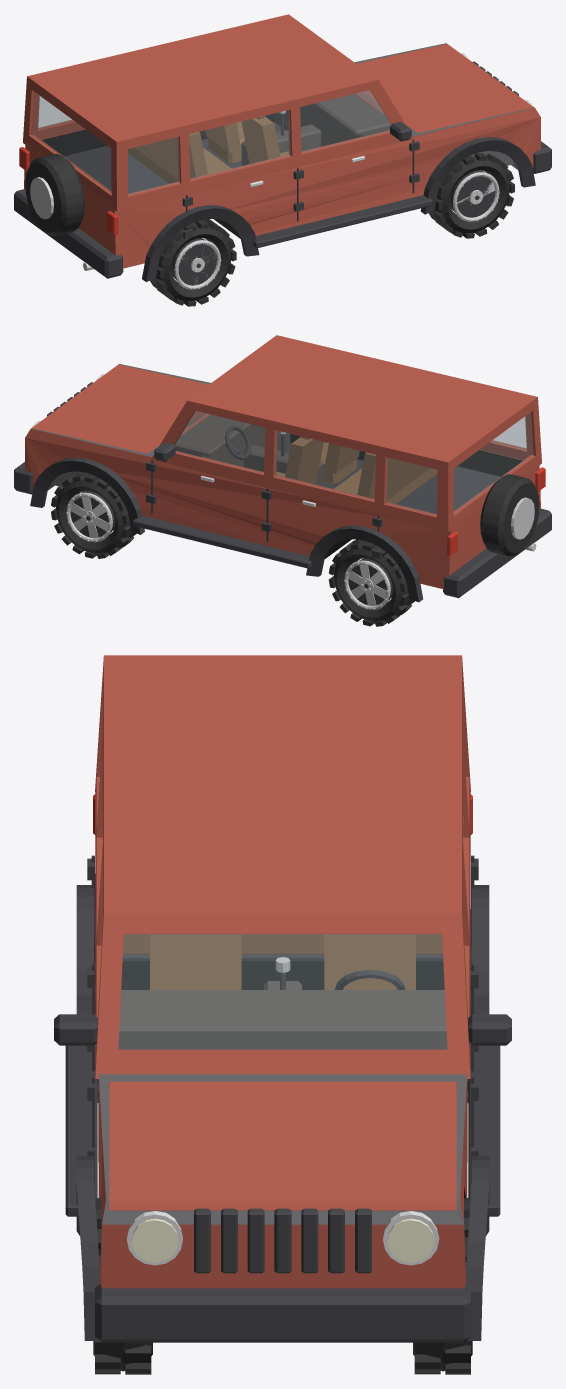
Rendered from ranger.glb.
3 views of the same model, one above another, from view 1: azimuth 30°, elevation 25°; view 2: azimuth 150°, elevation 25°; view 3: azimuth 270°, elevation 25° (orthographic). The views are drawn at different scales.
Visible parts, largest first — view 1: Body.008, Dark.008, Glass.008, Tire.008, Hood.008, Seat.008, Dash.008, Rim.008, Well.008, Bay.008, Tail.008, Chrome.008; view 2: Body.008, Dark.008, Glass.008, Tire.008, Hood.008, Seat.008, Dash.008, Rim.008, Well.008, Bay.008, Chrome.008, Tail.008; view 3: Body.008, Dark.008, Hood.008, Glass.008, Dash.008, Seat.008, Bay.008, Tire.008, Well.008, Headlight.008, Chrome.008.
Part boxes in pixels (left/top/right/bottom): Body.008: left=23, top=14, right=540, bottom=268; Dark.008: left=14, top=61, right=551, bottom=285; Glass.008: left=31, top=90, right=390, bottom=195; Tire.008: left=25, top=153, right=514, bottom=306; Hood.008: left=356, top=44, right=533, bottom=132; Seat.008: left=128, top=116, right=288, bottom=183; Dash.008: left=241, top=93, right=390, bottom=165; Rim.008: left=30, top=172, right=499, bottom=289; Well.008: left=42, top=113, right=274, bottom=238; Bay.008: left=354, top=43, right=534, bottom=171; Tail.008: left=19, top=147, right=118, bottom=235; Chrome.008: left=83, top=53, right=533, bottom=289; Body.008: left=25, top=335, right=541, bottom=589; Dark.008: left=14, top=382, right=551, bottom=604; Glass.008: left=174, top=411, right=533, bottom=515; Tire.008: left=51, top=473, right=539, bottom=626; Hood.008: left=32, top=364, right=208, bottom=453; Seat.008: left=276, top=436, right=437, bottom=504; Dash.008: left=174, top=414, right=323, bottom=486; Rim.008: left=66, top=492, right=534, bottom=609; Well.008: left=53, top=434, right=522, bottom=558; Bay.008: left=31, top=364, right=210, bottom=491; Chrome.008: left=33, top=374, right=536, bottom=609; Tail.008: left=447, top=467, right=545, bottom=555; Body.008: left=95, top=655, right=470, bottom=1288; Dark.008: left=54, top=855, right=511, bottom=1342; Hood.008: left=109, top=1081, right=456, bottom=1210; Glass.008: left=102, top=834, right=463, bottom=1049; Dash.008: left=118, top=981, right=447, bottom=1049; Seat.008: left=123, top=934, right=442, bottom=989; Bay.008: left=98, top=1074, right=467, bottom=1224; Tire.008: left=93, top=927, right=472, bottom=1374; Well.008: left=121, top=961, right=465, bottom=1197; Headlight.008: left=131, top=1218, right=434, bottom=1262; Chrome.008: left=126, top=957, right=439, bottom=1265.
Bounding box in the file's own units: 5.04 × 1.87 × 2.15.
